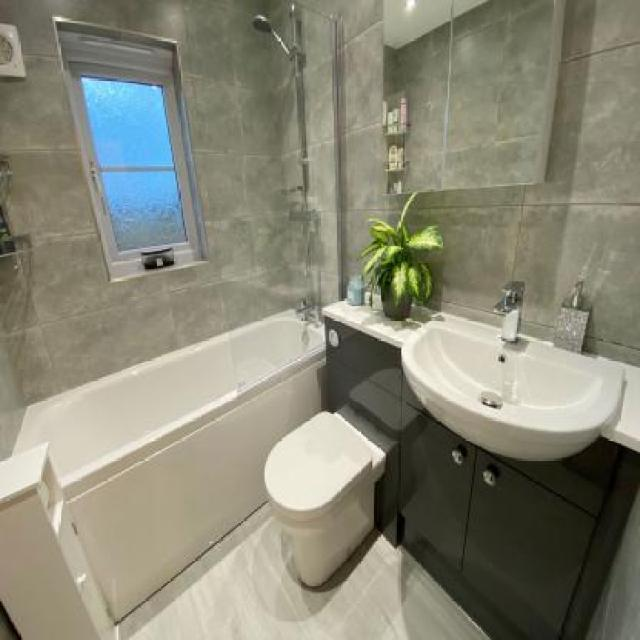floor: (118, 502, 494, 640)
